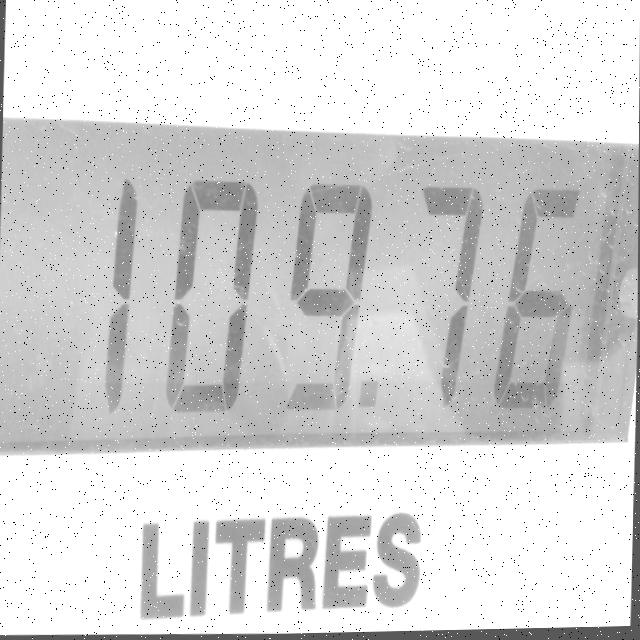.: (355, 378, 388, 425)
0: (164, 173, 264, 426)
1: (91, 160, 155, 425)
7: (492, 177, 597, 466), (414, 177, 500, 421)
9: (285, 181, 369, 416)
